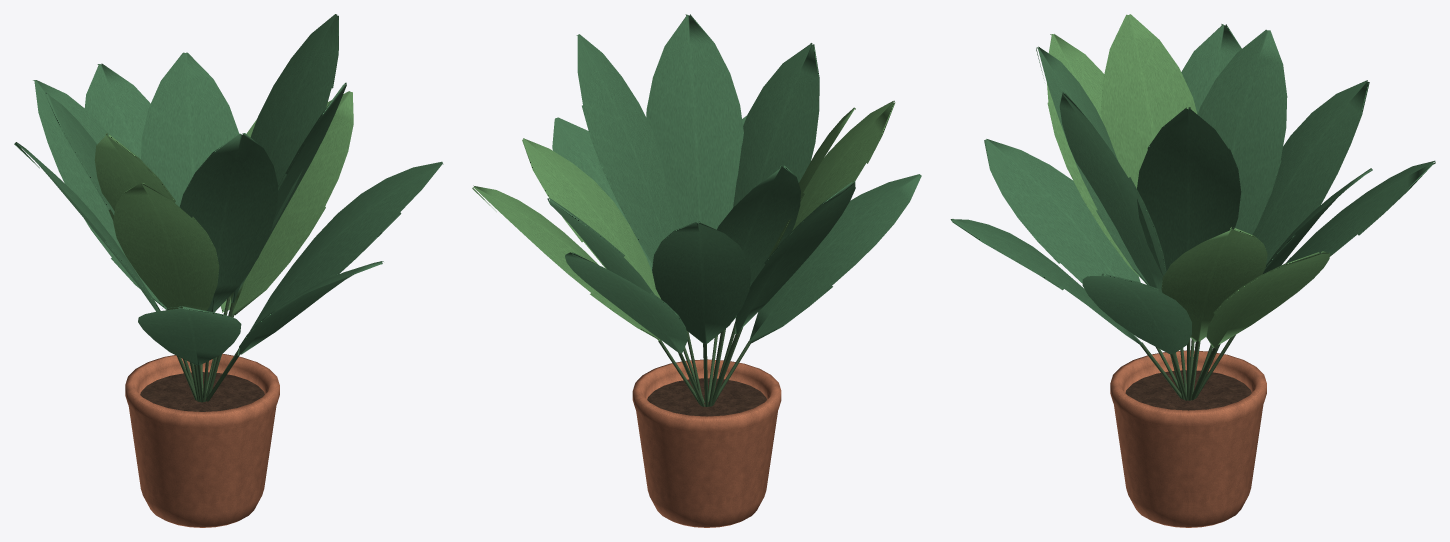
The model's file is plant_large.glb.
The picture shows the model from 3 angles, left to right: view 1: azimuth 30°, elevation 25°; view 2: azimuth 150°, elevation 25°; view 3: azimuth 270°, elevation 25°; orthographic projection. The views are drawn at different scales.
Parts seen in each view (by area): view 1: Pot, Leaf7, Leaf2, Leaf11, Leaf9, Leaf1, Leaf14, Leaf8, Leaf15, Leaf3, Soil, Leaf10 (+4 smaller); view 2: Pot, Leaf4, Leaf1, Leaf8, Leaf7, Leaf15, Leaf14, Leaf13, Leaf5, Leaf2, Leaf3, Leaf6 (+4 smaller); view 3: Pot, Leaf1, Leaf13, Leaf15, Leaf10, Leaf8, Leaf4, Leaf14, Leaf9, Leaf6, Leaf3, Leaf2 (+5 smaller).
Part boxes in pixels (left/top/right/bottom): Pot: left=125, top=353, right=279, bottom=527; Leaf7: left=179, top=133, right=278, bottom=312; Leaf2: left=113, top=182, right=219, bottom=310; Leaf11: left=141, top=52, right=239, bottom=206; Leaf9: left=250, top=161, right=443, bottom=330; Leaf1: left=250, top=14, right=338, bottom=230; Leaf14: left=231, top=91, right=353, bottom=315; Leaf8: left=33, top=80, right=166, bottom=309; Leaf15: left=138, top=306, right=241, bottom=365; Leaf3: left=84, top=63, right=150, bottom=159; Soil: left=140, top=372, right=264, bottom=411; Leaf10: left=94, top=133, right=175, bottom=220; Pot: left=632, top=359, right=781, bottom=527; Leaf4: left=646, top=14, right=743, bottom=229; Leaf1: left=576, top=34, right=676, bottom=264; Leaf8: left=652, top=221, right=751, bottom=343; Leaf7: left=733, top=43, right=819, bottom=207; Leaf15: left=749, top=174, right=921, bottom=343; Leaf14: left=522, top=138, right=660, bottom=298; Leaf13: left=717, top=165, right=800, bottom=321; Leaf5: left=735, top=180, right=855, bottom=333; Leaf2: left=792, top=100, right=895, bottom=230; Leaf3: left=565, top=252, right=688, bottom=353; Leaf6: left=472, top=185, right=660, bottom=341; Pot: left=1110, top=350, right=1266, bottom=527; Leaf1: left=1137, top=107, right=1241, bottom=274; Leaf13: left=1197, top=29, right=1287, bottom=234; Leaf15: left=984, top=139, right=1140, bottom=283; Leaf10: left=1100, top=14, right=1196, bottom=188; Leaf8: left=1252, top=80, right=1369, bottom=264; Leaf4: left=1059, top=92, right=1166, bottom=292; Leaf14: left=1161, top=227, right=1267, bottom=341; Leaf9: left=1082, top=273, right=1191, bottom=354; Leaf6: left=1206, top=251, right=1330, bottom=347; Leaf3: left=1285, top=160, right=1435, bottom=263; Leaf2: left=1047, top=34, right=1141, bottom=278.
Bounding box in the file's own units: 1.18 × 1.4 × 1.32.
Materials: 5 (5 with a texture image).
